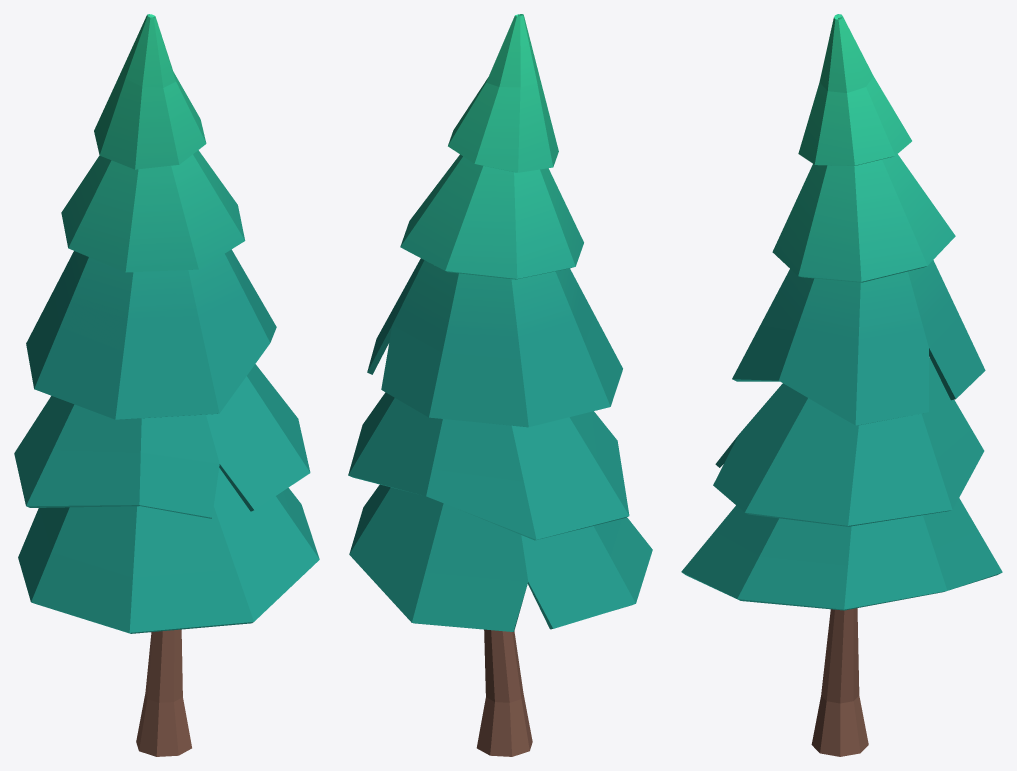
File: tree02.obj
3 renders of one model, left to right at view 1: azimuth 30°, elevation 25°; view 2: azimuth 150°, elevation 25°; view 3: azimuth 270°, elevation 25°, orthographic.
Parts seen in each view (by area): view 1: Cylinder.019_Cylinder.037; view 2: Cylinder.019_Cylinder.037; view 3: Cylinder.019_Cylinder.037.
Boxes of the visible parts, left/top/right/bottom form: Cylinder.019_Cylinder.037: left=14, top=14, right=319, bottom=756; Cylinder.019_Cylinder.037: left=348, top=14, right=652, bottom=756; Cylinder.019_Cylinder.037: left=681, top=14, right=1002, bottom=756.
Bounding box in the file's own units: 5.27 × 13.6 × 5.49.
